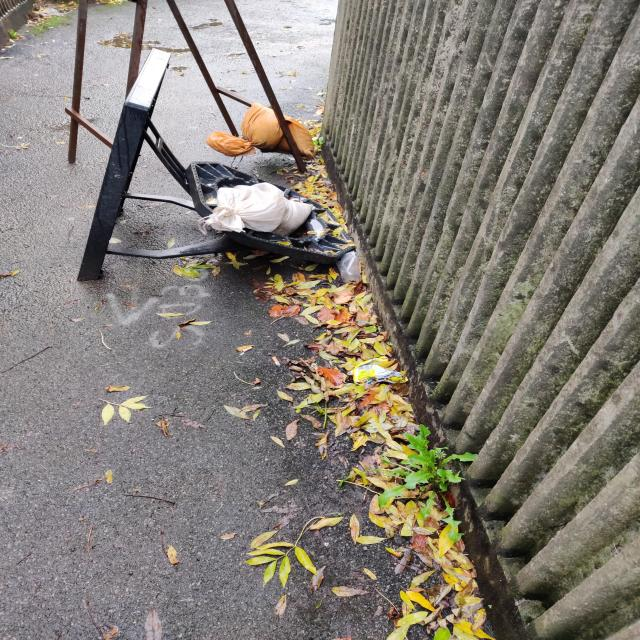litter: (347, 356, 408, 388), (336, 248, 363, 285), (271, 356, 281, 368), (240, 346, 254, 353)
